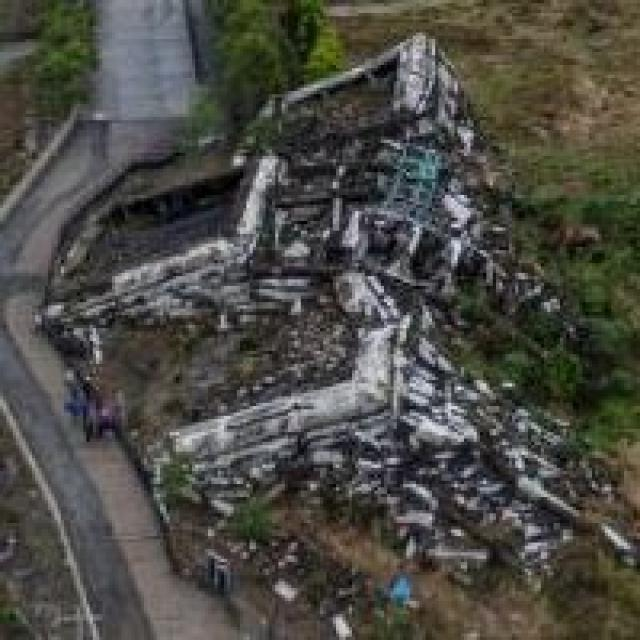collapsed_building: (61, 59, 480, 504)
